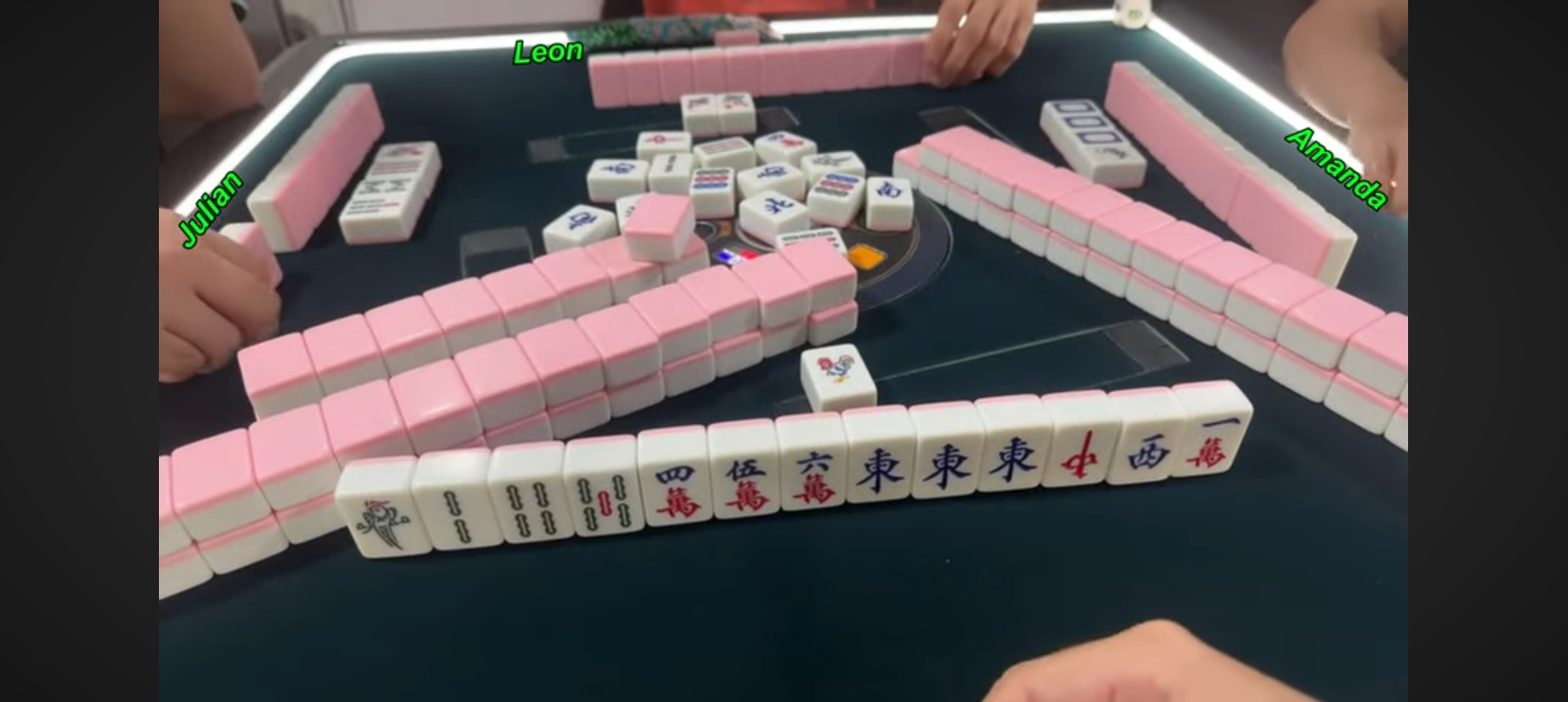TILE: (643, 458, 712, 528), (1175, 411, 1250, 475), (847, 436, 915, 503), (713, 449, 781, 516), (915, 432, 985, 497), (1117, 418, 1184, 484), (801, 343, 878, 398), (983, 428, 1050, 489), (1053, 423, 1117, 486), (784, 446, 846, 509)
